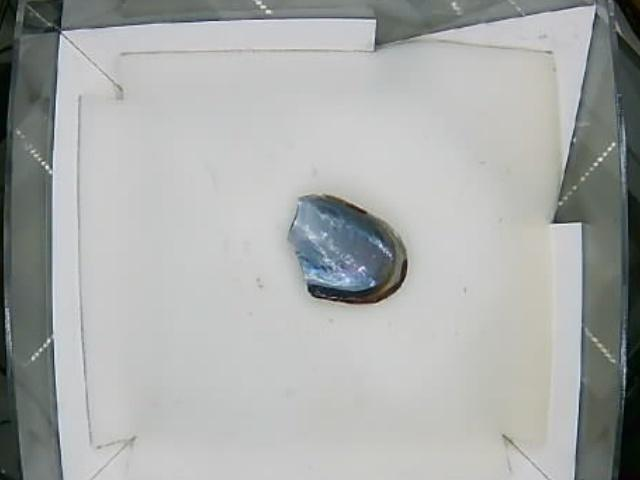Shell: (288, 192, 408, 304)
